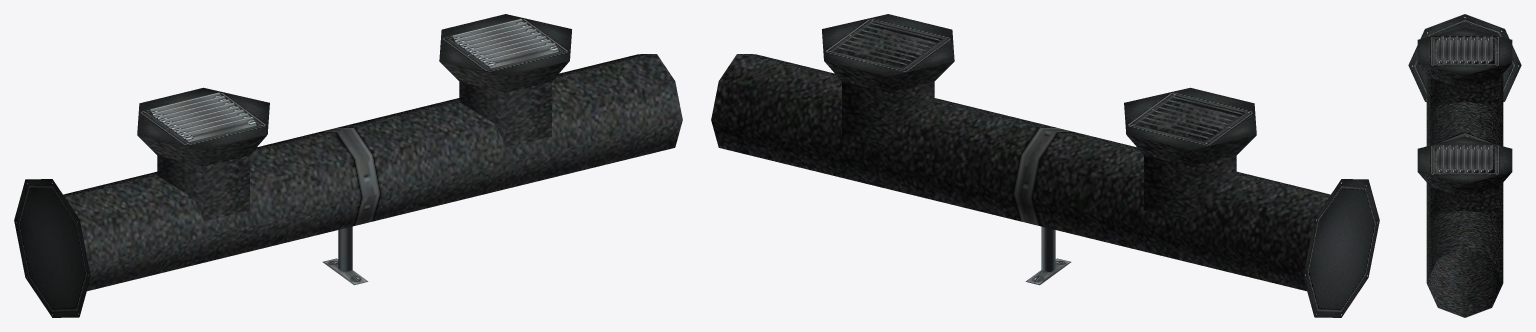
File: airducts_round_end.fbx
3 views of the same model, side by side, from view 1: azimuth 30°, elevation 25°; view 2: azimuth 150°, elevation 25°; view 3: azimuth 270°, elevation 25° (orthographic). The views are drawn at different scales.
Parts seen in each view (by area): view 1: mesh_0; view 2: mesh_0; view 3: mesh_0.
Boxes of the visible parts, x1,y1,x2,y2 form: mesh_0: [14, 14, 682, 317]; mesh_0: [711, 14, 1379, 317]; mesh_0: [1408, 14, 1521, 317].
Size of the model in its own units: 200 by 60.71 by 43.97.
Materials: 1 (1 with a texture image).
